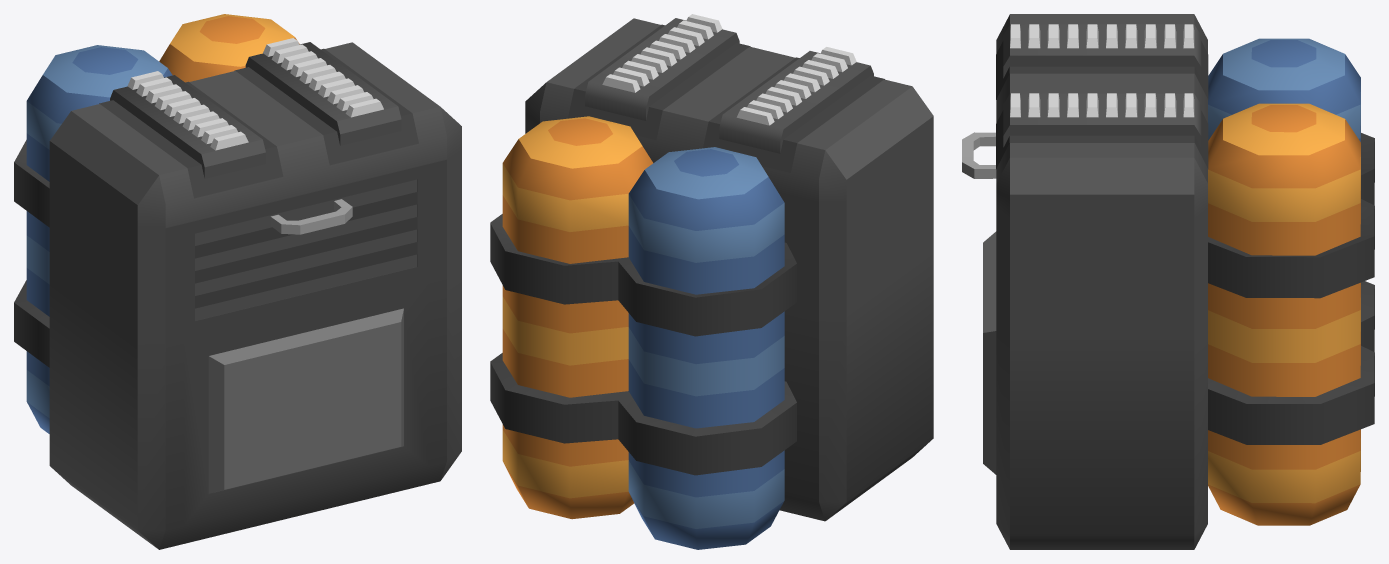
File: tank storage unit.fbx
3 views of the same model, side by side, from view 1: azimuth 30°, elevation 25°; view 2: azimuth 150°, elevation 25°; view 3: azimuth 270°, elevation 25° (orthographic). The views are drawn at different scales.
Parts seen in each view (by area): view 1: TankStorageUnit, TankStorageUnit_Door; view 2: TankStorageUnit; view 3: TankStorageUnit, TankStorageUnit_Door.
Part boxes in pixels (<box>): TankStorageUnit: <box>14,14,461,549</box>; TankStorageUnit_Door: <box>195,179,417,320</box>; TankStorageUnit: <box>490,14,933,549</box>; TankStorageUnit: <box>983,14,1374,549</box>; TankStorageUnit_Door: <box>962,132,996,178</box>.
Bounding box in the file's own units: 0.9228 × 1.07 × 0.9719.
